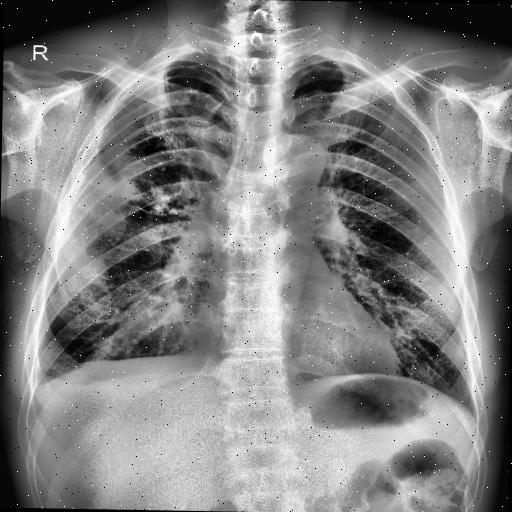0- Aortic enlargement: (257, 132, 326, 183), (262, 132, 327, 178)
10- Pleural effusion: (12, 337, 56, 417), (22, 368, 68, 408), (23, 364, 65, 402)
11- Pleural thickening: (64, 94, 208, 218), (34, 216, 136, 324), (12, 337, 56, 417), (22, 368, 68, 408), (23, 364, 65, 402)
13- Pulmonary fibrosis: (128, 204, 176, 216)
2- Calcification: (64, 94, 208, 218)
4- Consolidation: (66, 150, 138, 230)
7- Lung Opacity: (34, 216, 136, 324), (63, 134, 142, 208)
